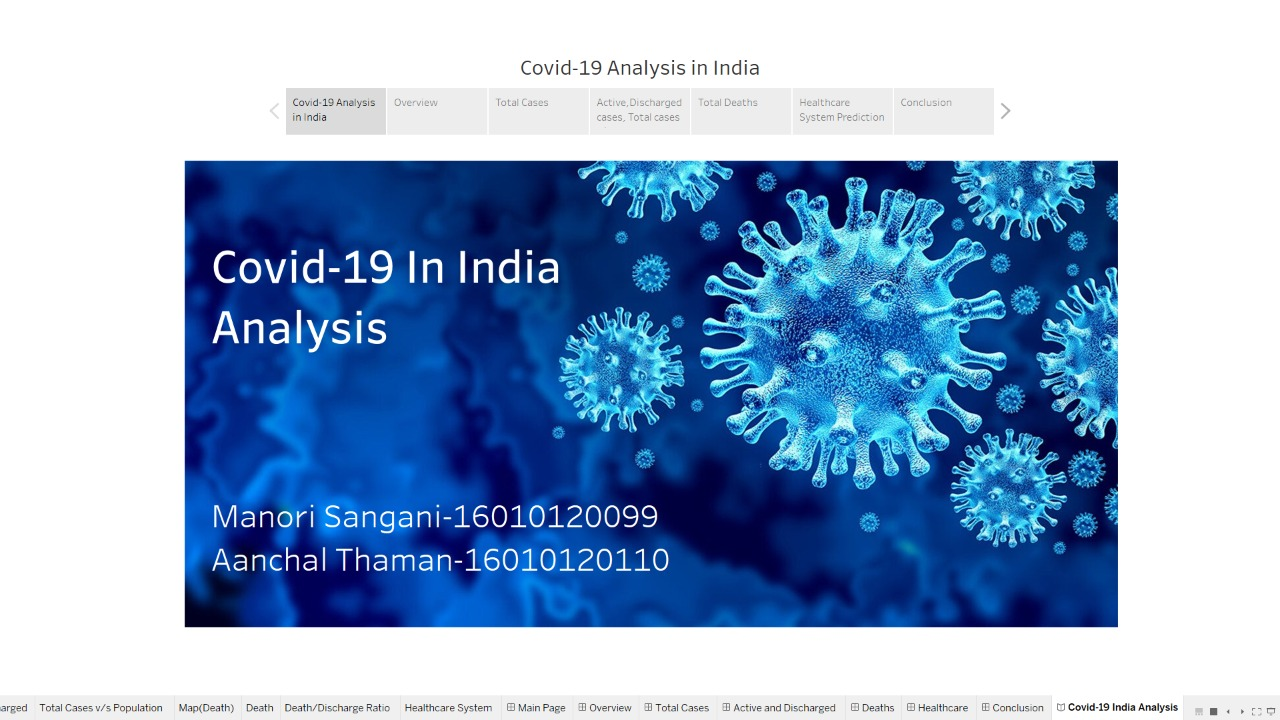

Layout of this report page (visuals, bound fields, positions):
{"tool":"tableau","page":{"name":"Main Page","canvas":[1000,1000],"units":"permille","ordinal":4},"visuals":[{"type":"text","box":[91.3,88.6,588,881.4]}]}

Visuals, with their boxes on the dashboard's canvas, which has no fixed pixel size, in thousandths of its width and height (x1, y1, x2, y2). These are canvas units, not pixel positions in the 1280x720 screenshot, which may show the page scaled, cropped or inside an application window:
text: x1=91 y1=89 x2=679 y2=970
